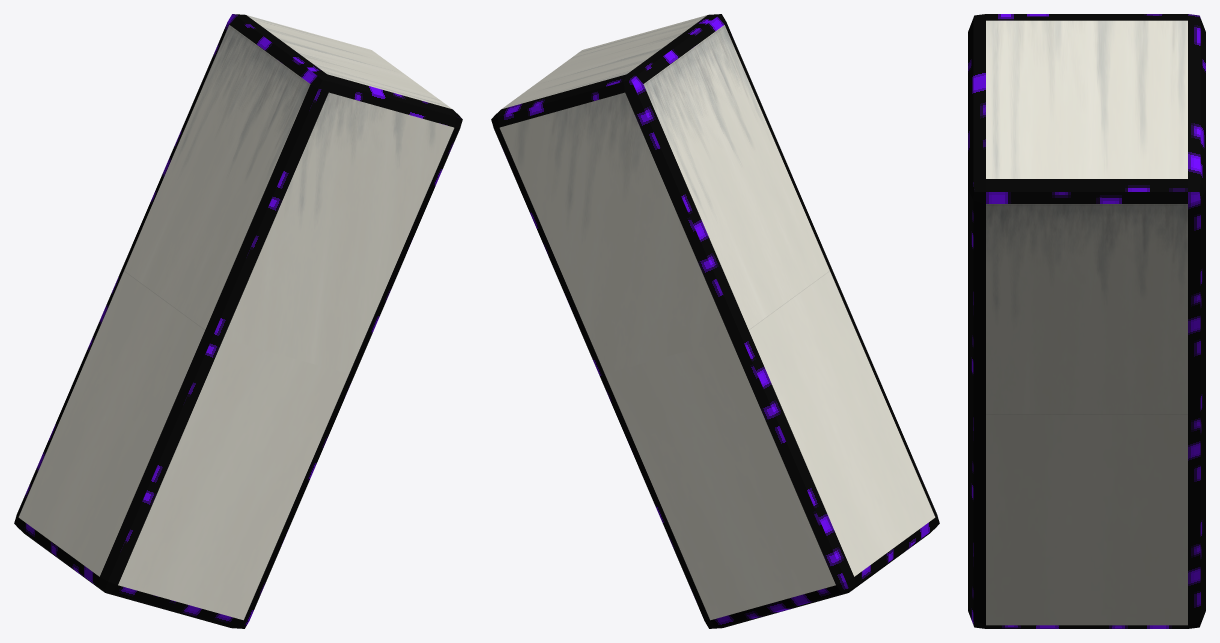
File: towerLeg.fbx
3 views of the same model, side by side, from view 1: azimuth 30°, elevation 25°; view 2: azimuth 150°, elevation 25°; view 3: azimuth 270°, elevation 25° (orthographic). The views are drawn at different scales.
Visible parts, largest first — view 1: Cube; view 2: Cube; view 3: Cube.
Part boxes in pixels (box(x1,y1,x2,y2)): Cube: box(14, 14, 462, 628); Cube: box(491, 14, 939, 628); Cube: box(968, 14, 1205, 628).
Bounding box in the file's own units: 4.35 × 6.14 × 2.
